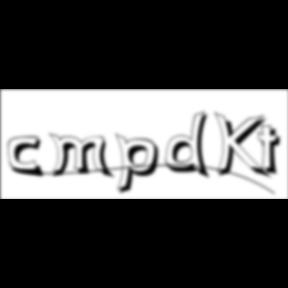K: (214, 110, 274, 182)
c: (8, 136, 48, 180)
d: (166, 110, 216, 182)
m: (49, 132, 117, 181)
p: (116, 132, 166, 198)
t: (256, 124, 288, 179)
